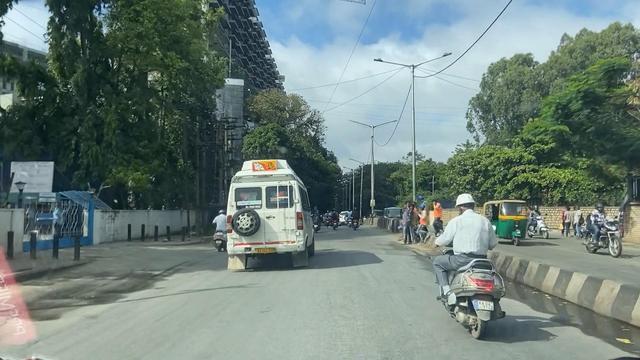HMV: (219, 153, 318, 271)
LMV: (434, 196, 501, 335)
RoadDamages: (25, 269, 139, 342)
